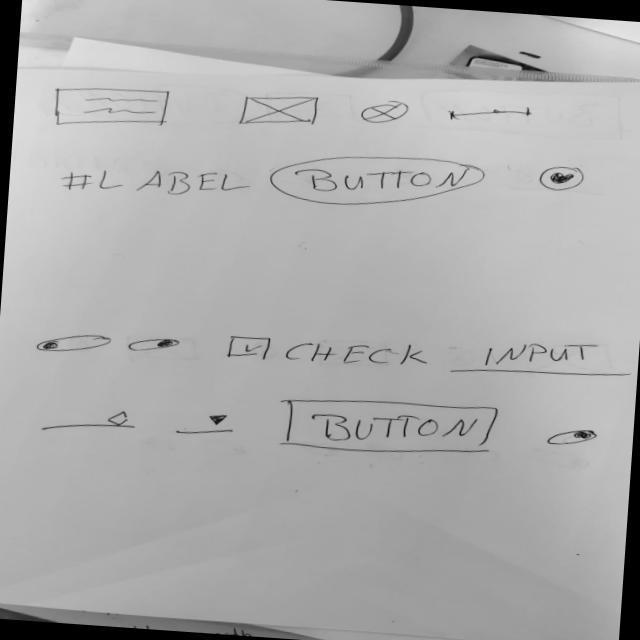button: (281, 391, 505, 462), (267, 146, 489, 217)
checkbox: (224, 330, 435, 375)
icon-button: (537, 163, 587, 196)
image: (234, 90, 325, 134), (357, 97, 413, 128)
input: (449, 333, 639, 388)
label: (59, 160, 254, 207)
number-input: (40, 403, 139, 441)
select: (170, 411, 238, 441)
slider: (444, 100, 536, 130)
textarea: (46, 82, 176, 136)
toggle: (35, 331, 115, 359), (541, 425, 601, 451), (127, 335, 185, 357)
